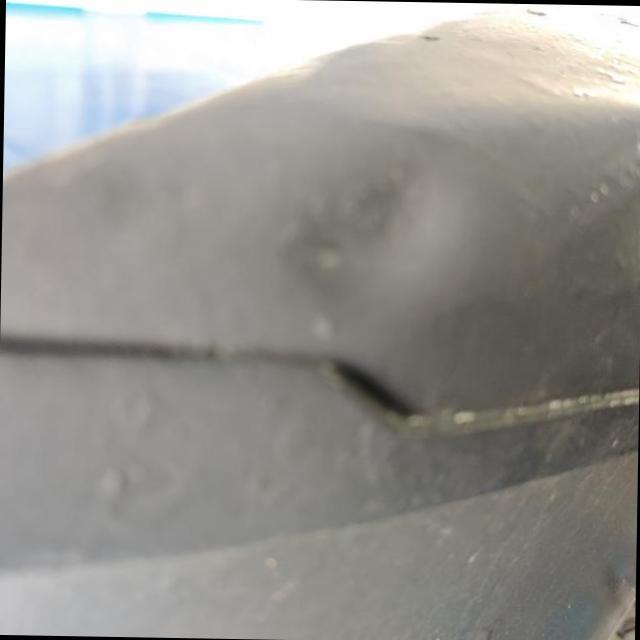Dent: (258, 136, 492, 330)
